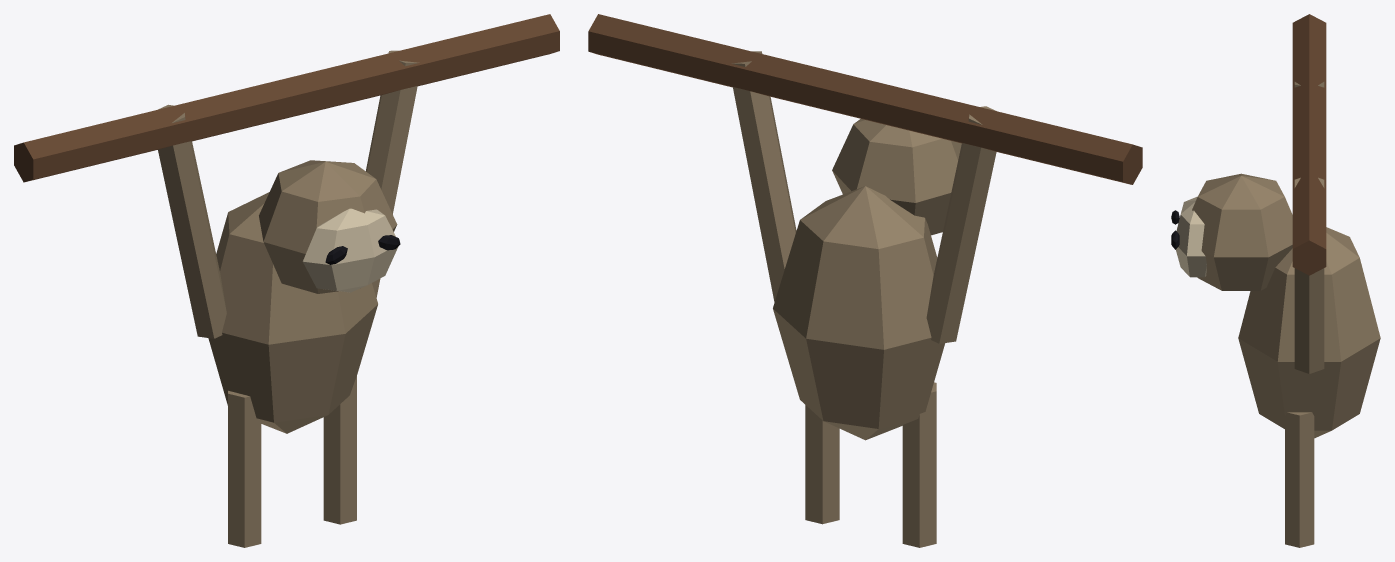
Rendered from sloth.glb.
3 renders of one model, left to right at view 1: azimuth 30°, elevation 25°; view 2: azimuth 150°, elevation 25°; view 3: azimuth 270°, elevation 25°, orthographic. The views are drawn at different scales.
Parts seen in each view (by area): view 1: sloth; view 2: sloth; view 3: sloth.
Boxes of the visible parts, <box> form: sloth: <box>14,14,559,547</box>; sloth: <box>588,14,1142,547</box>; sloth: <box>1171,14,1380,547</box>.
Bounding box in the file's own units: 1.1 × 0.89 × 0.4299.
